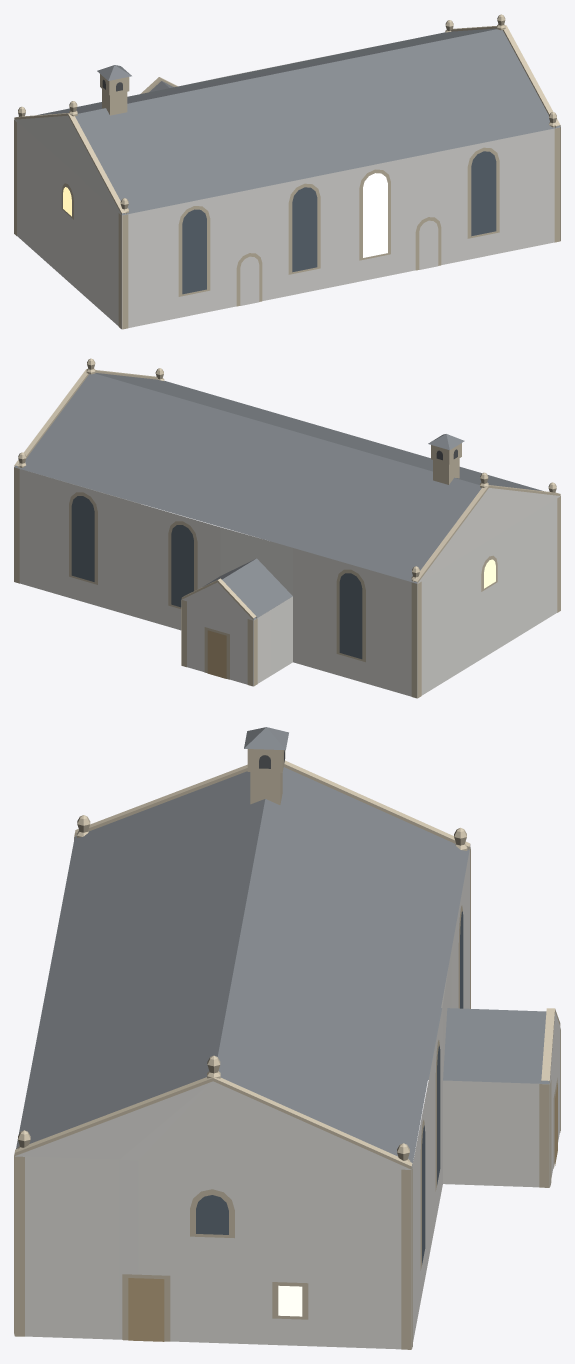
3 renders of one model, top to bottom at view 1: azimuth 30°, elevation 25°; view 2: azimuth 150°, elevation 25°; view 3: azimuth 270°, elevation 25°, orthographic. The views are drawn at different scales.
Visible parts, largest first — view 1: harl, slate, ss_dk, windows; view 2: harl, slate, ss_dk, windows, door_wood; view 3: slate, harl, ss_dk, windows, door_wood.
Part boxes in pixels (x1=…): harl: x1=14, y1=43, x2=559, y2=328; slate: x1=37, y1=28, x2=560, y2=215; ss_dk: x1=14, y1=14, x2=560, y2=329; windows: x1=63, y1=151, x2=496, y2=294; harl: x1=14, y1=467, x2=560, y2=697; slate: x1=14, y1=373, x2=543, y2=619; ss_dk: x1=14, y1=358, x2=560, y2=698; windows: x1=71, y1=496, x2=495, y2=659; door_wood: x1=207, y1=630, x2=226, y2=678; slate: x1=16, y1=727, x2=549, y2=1168; harl: x1=15, y1=847, x2=560, y2=1349; ss_dk: x1=14, y1=749, x2=560, y2=1349; windows: x1=196, y1=911, x2=463, y2=1316; door_wood: x1=128, y1=1083, x2=557, y2=1341.
Size of the model in its own units: 26.51 by 12 by 18.19.
